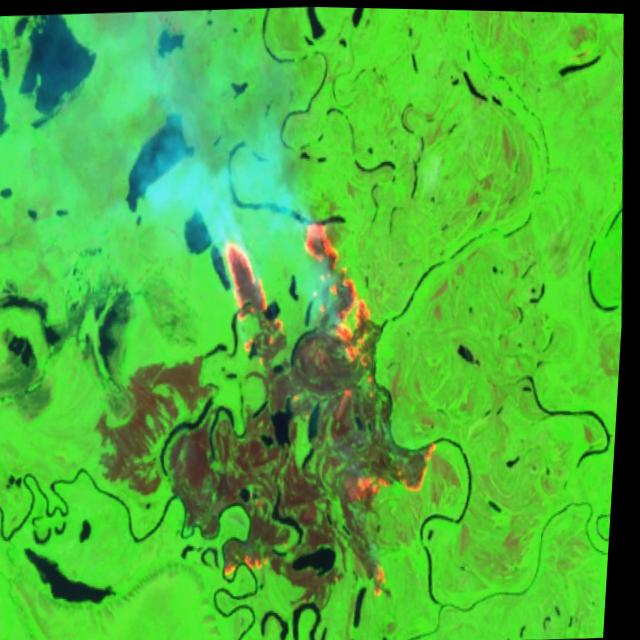fire: (191, 200, 462, 609)
